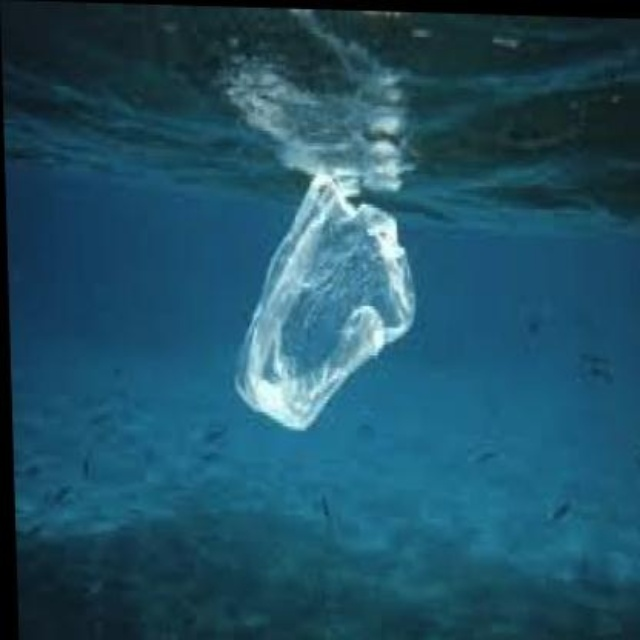trash: (235, 174, 414, 428)
